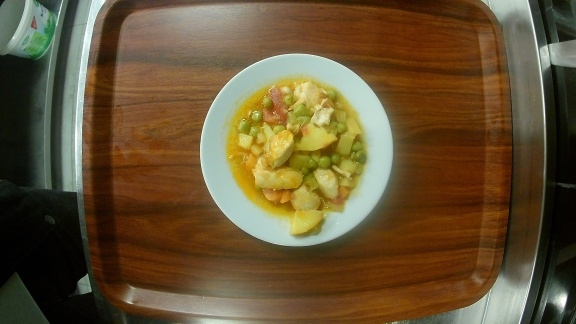bezelyelitavuk: (197, 51, 396, 249)
